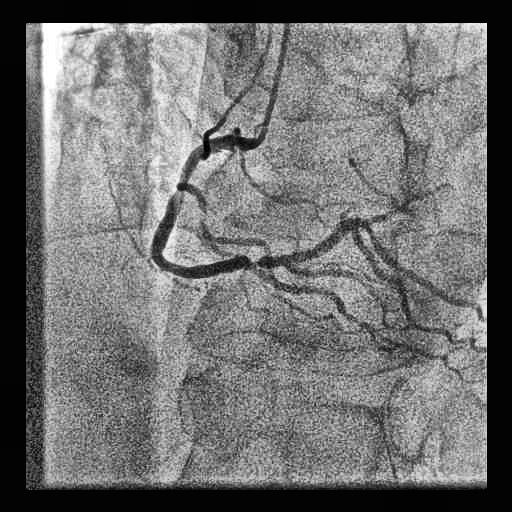pborca: (258, 219, 354, 268)
pda: (254, 267, 462, 379)
rca: (151, 135, 257, 278)
